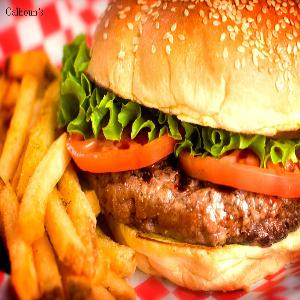cheeseburger: (79, 3, 300, 280)
fries: (6, 68, 100, 288)
